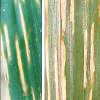Corn Gray leaf spot: (42, 0, 99, 99)
